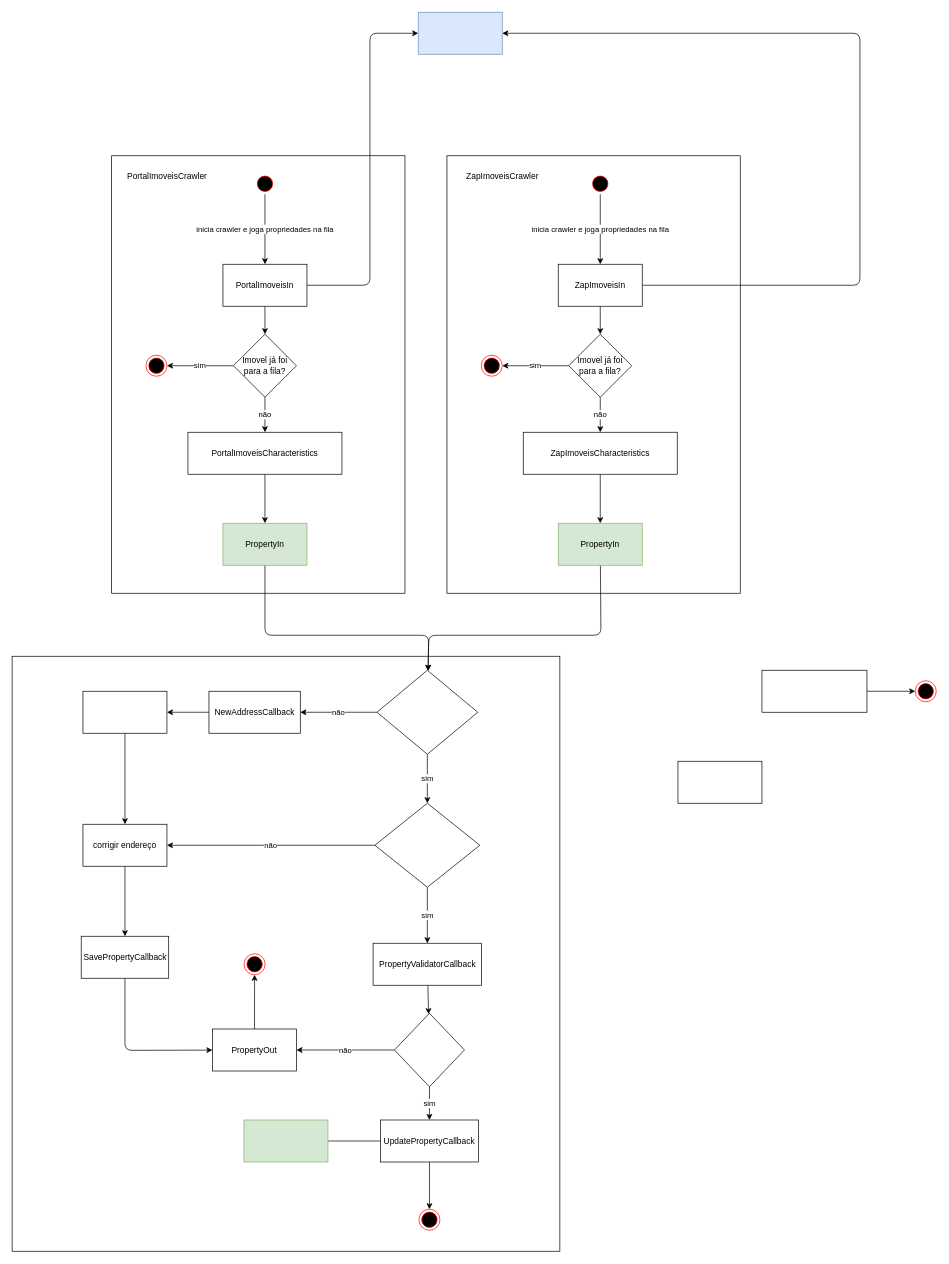
Some shapes in this 949 by 1264 pixel diagram are drawn without their labels. Each missing label, with the centre of its shape:
"Consulta CEP no viacep" belongs at (x=124, y=712).
"endereço verificado?" belongs at (x=427, y=845).
"Gerar historico de preços" belongs at (x=285, y=1140).
"Imovel já cadastrado?" belongs at (x=427, y=712).
"InactivePropertyCallback" belongs at (x=814, y=691).
"Preço mudou?" belongs at (x=429, y=1050).
"Web" belongs at (x=460, y=33).
